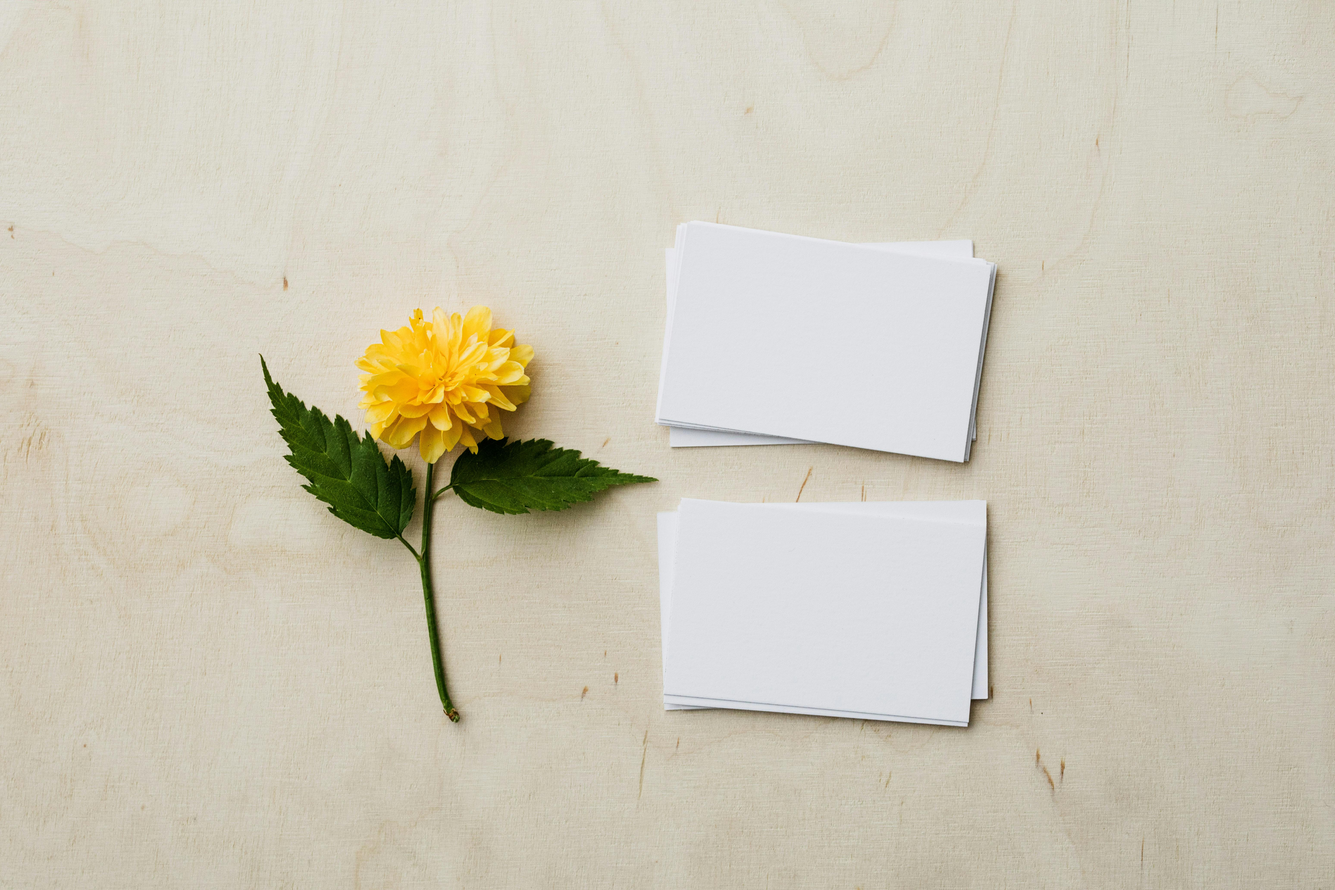paper: (655, 219, 997, 463), (654, 496, 993, 728)
